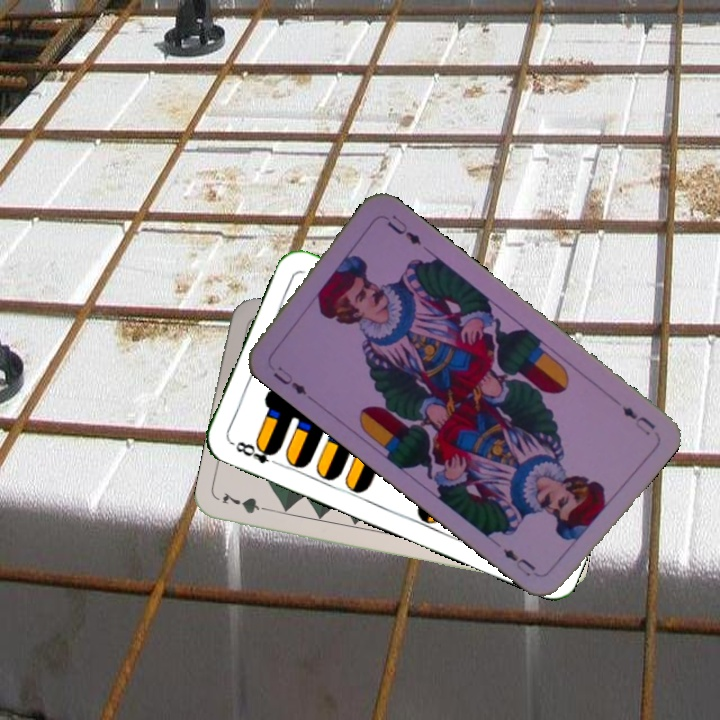E8: (227, 437, 284, 469)
EU: (617, 402, 658, 439), (269, 362, 310, 398)
G7: (218, 488, 277, 516)
